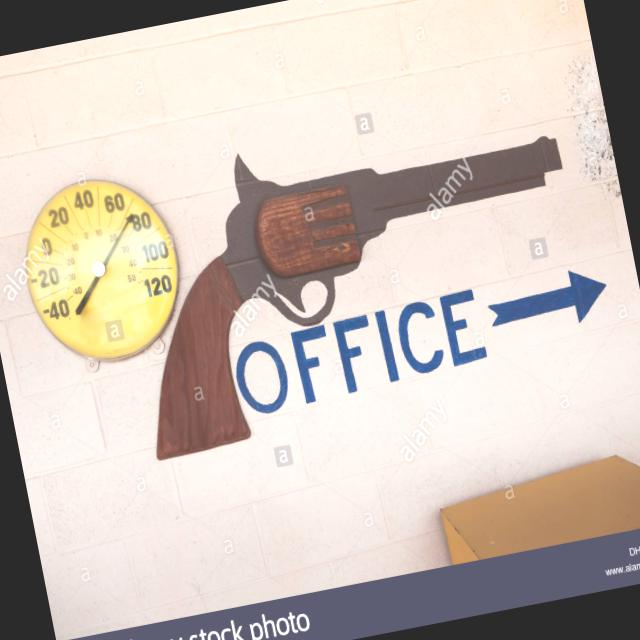handgun: (99, 84, 606, 460)
